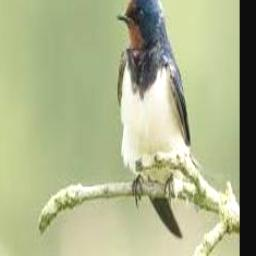Swallow: (115, 0, 190, 239)
